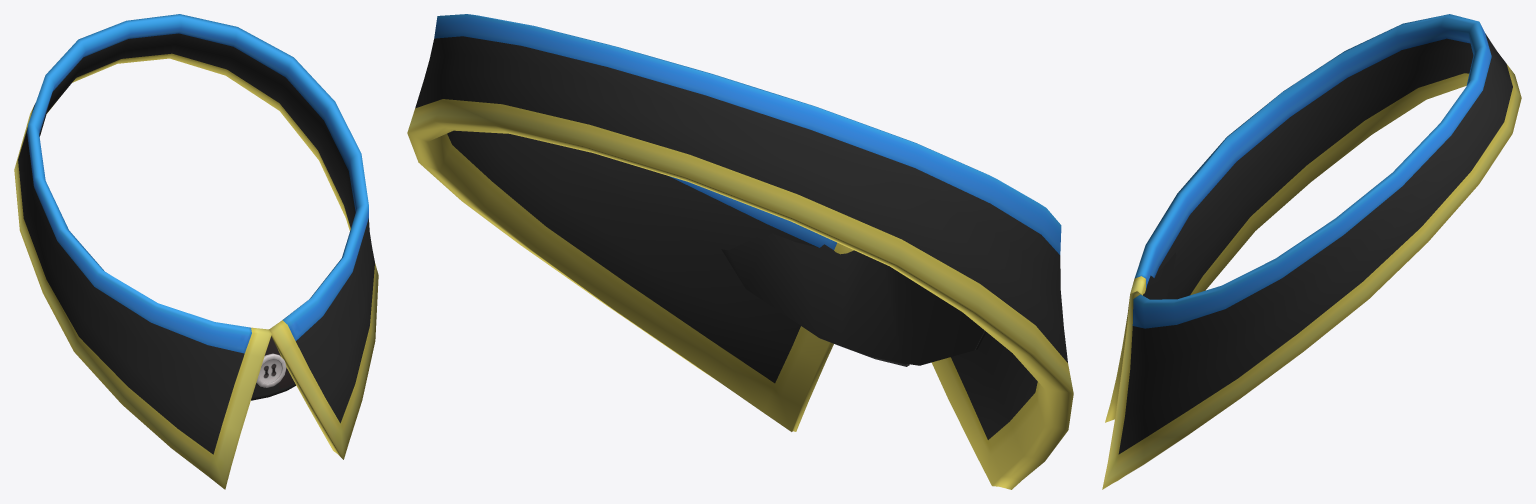
The model's file is pm0522_00_Rig.fbx.
3 renders of one model, left to right at view 1: azimuth 30°, elevation 25°; view 2: azimuth 150°, elevation 25°; view 3: azimuth 270°, elevation 25°, orthographic. The views are drawn at different scales.
Visible parts, largest first — view 1: Fashionweek2021Skin; view 2: Fashionweek2021Skin; view 3: Fashionweek2021Skin.
Part boxes in pixels (x1,y1,x2,y2): Fashionweek2021Skin: (14,14,378,489); Fashionweek2021Skin: (407,14,1073,489); Fashionweek2021Skin: (1102,14,1521,489).
Bounding box in the file's own units: 0.1738 × 0.1806 × 0.1669.
